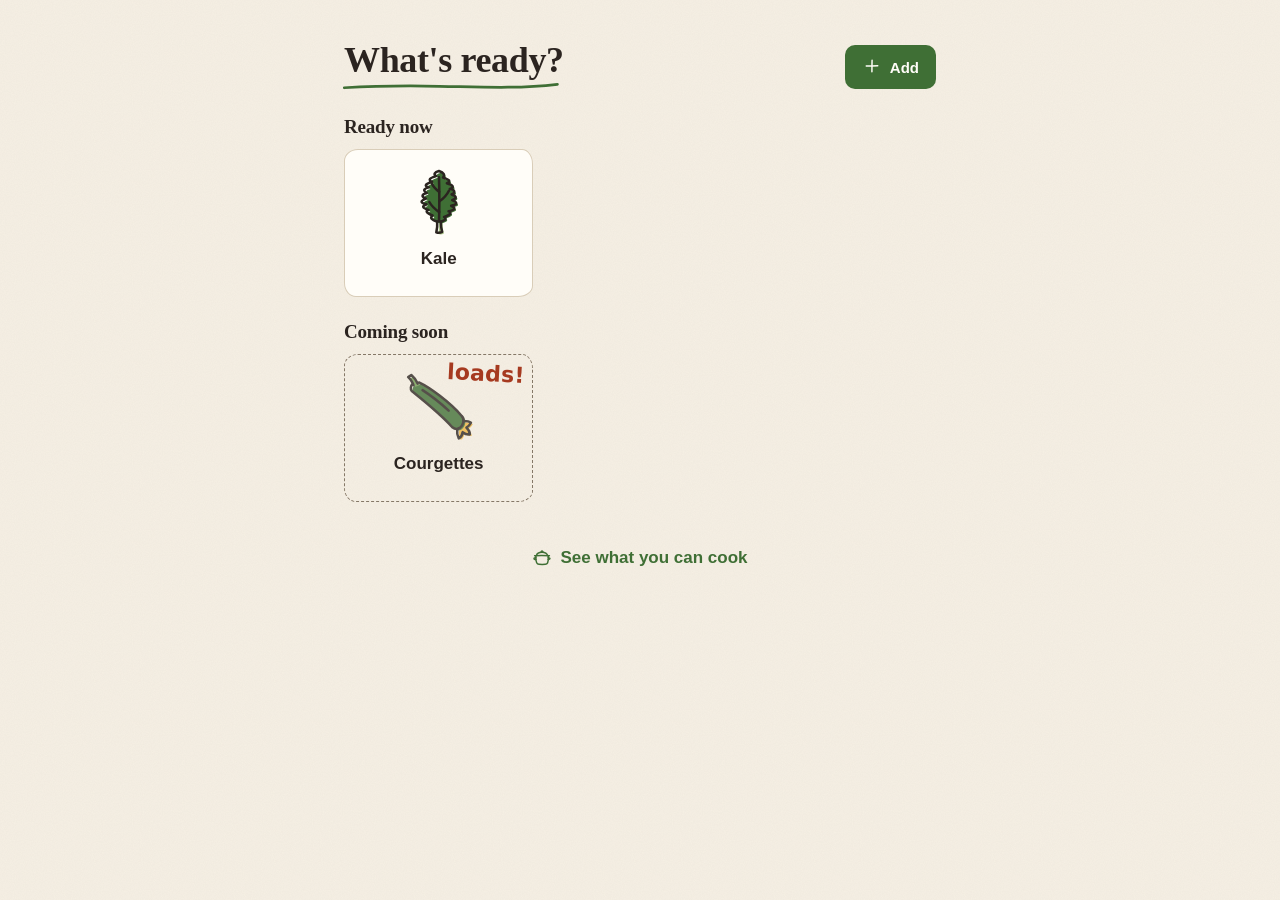
Test: PatchScreen › the crop sheet › puts a crop back exactly as it was on Undo
Click the button with aria-label "Courgettes, coming soon, loads of it": (439, 428) x1=344 y1=354 x2=533 y2=502
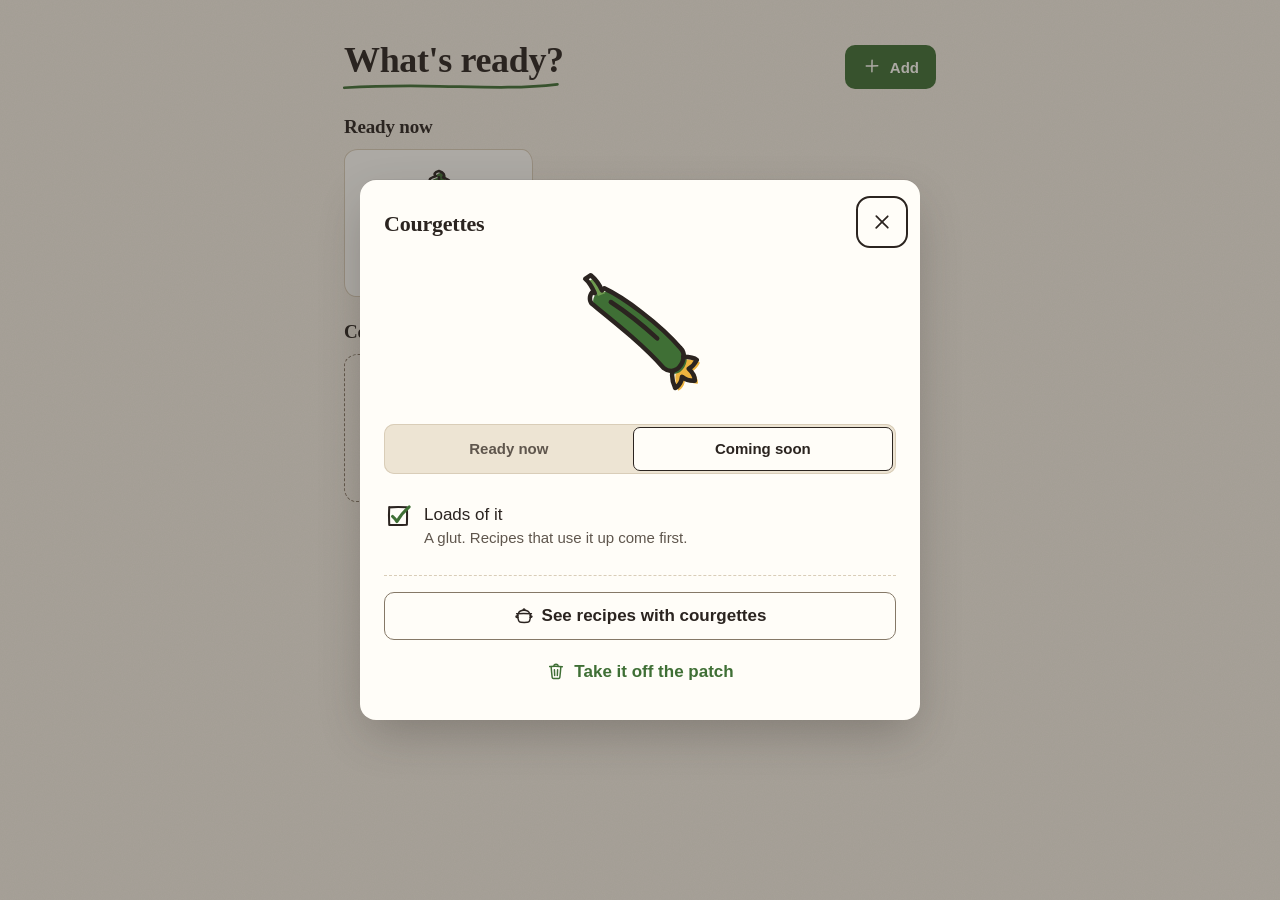
Click the button "Take it off the patch": (640, 672) x1=384 y1=648 x2=896 y2=696
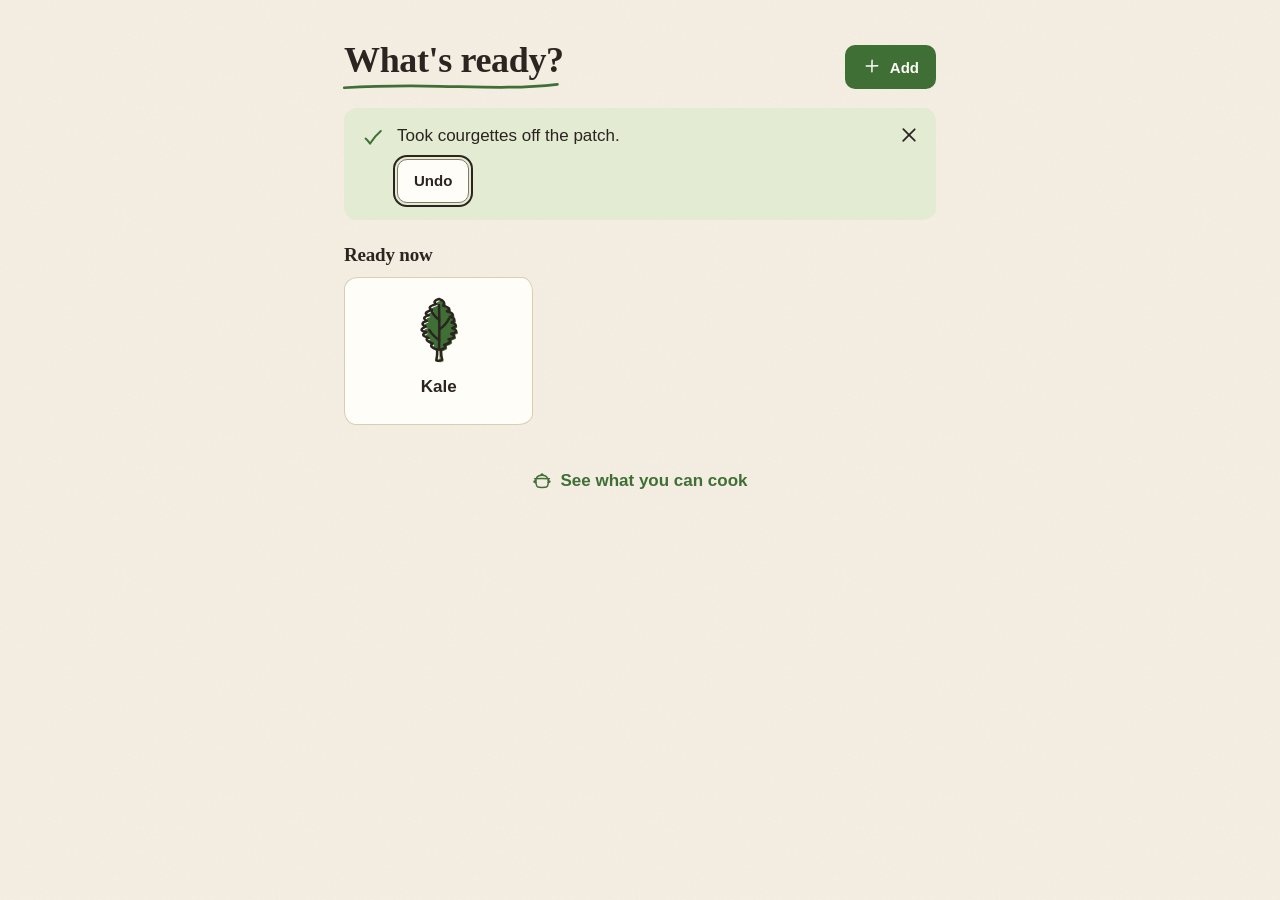
Click the button "Undo": (433, 181) x1=397 y1=159 x2=469 y2=203
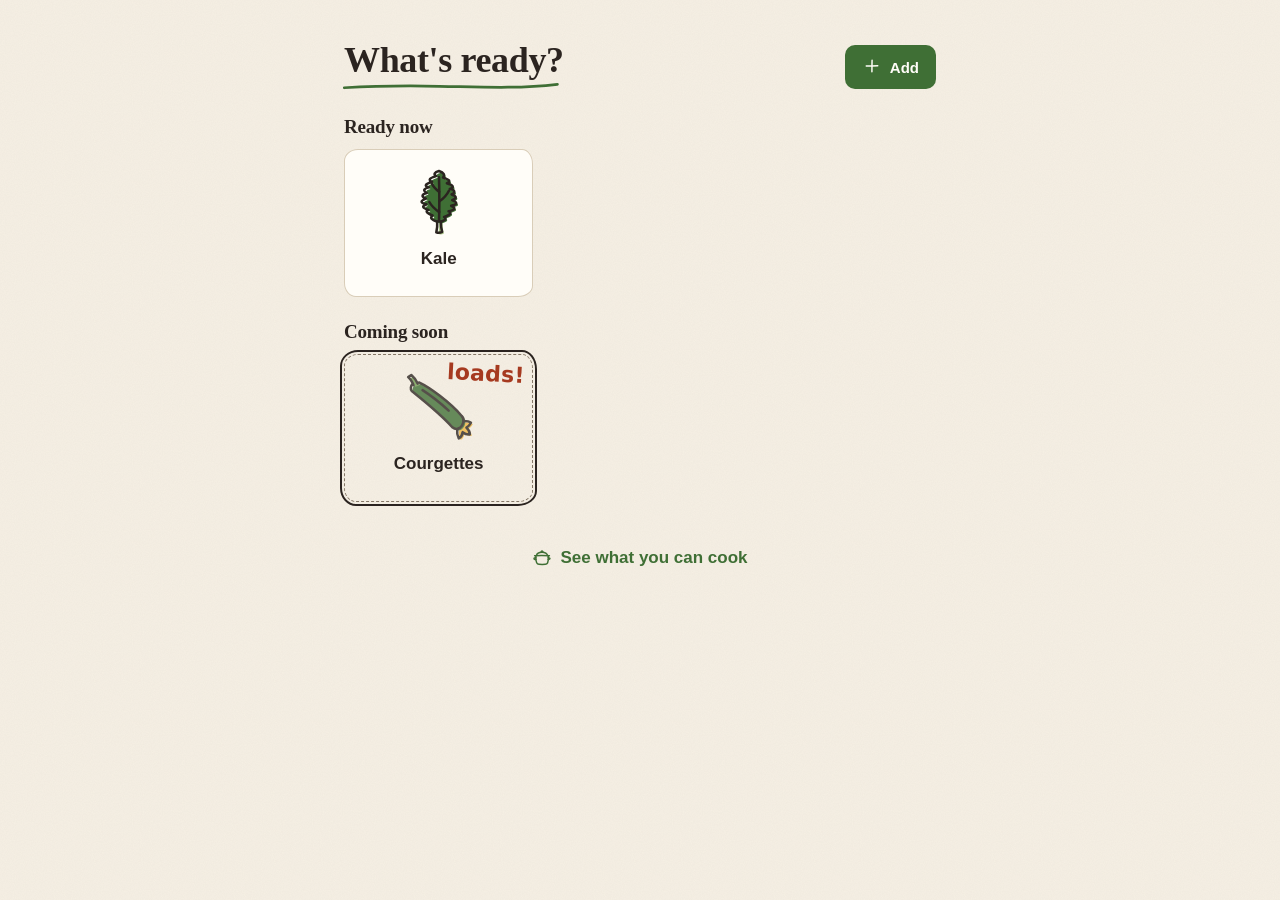
Expected: the button "Undo" is gone
